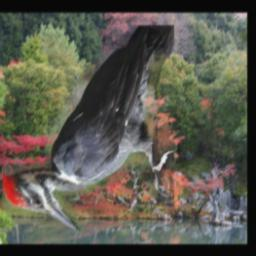Woodpecker: (1, 26, 173, 233)
